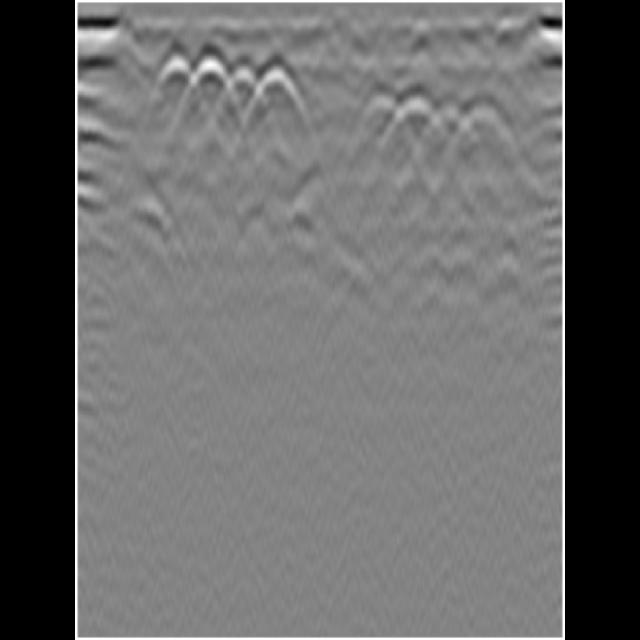hyperbola: (459, 101, 517, 159), (359, 94, 411, 144), (424, 104, 472, 158), (153, 57, 204, 106), (396, 94, 444, 146), (256, 61, 302, 112), (189, 54, 235, 102), (219, 63, 265, 109)
